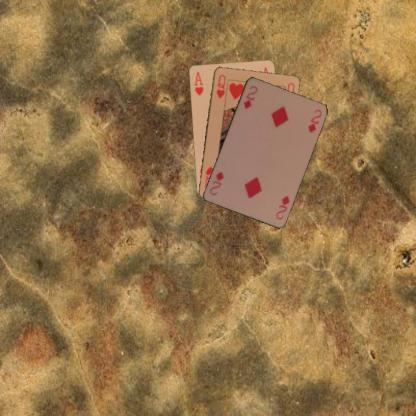2d: (240, 82, 259, 110), (272, 193, 290, 221)
Ah: (191, 70, 204, 96)
Qh: (214, 72, 226, 99)
